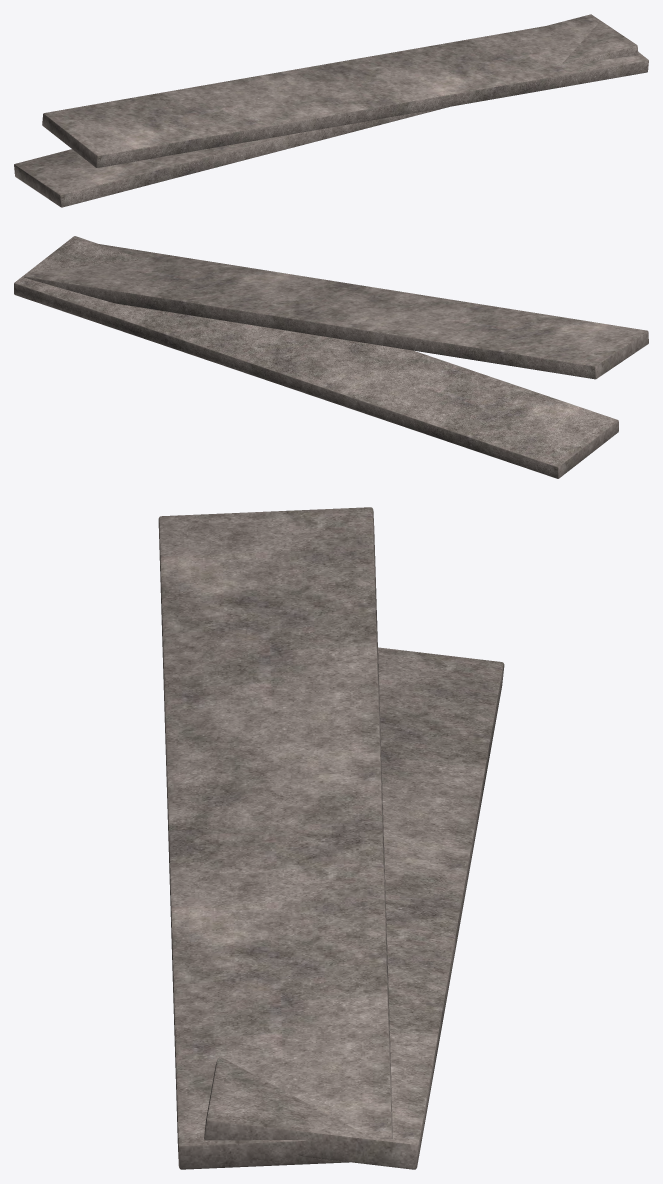
Rendered from ESQ-PCH-002_anim.glb.
3 views of the same model, one above another, from view 1: azimuth 30°, elevation 25°; view 2: azimuth 150°, elevation 25°; view 3: azimuth 270°, elevation 25° (orthographic). The views are drawn at different scales.
Visible parts, largest first — view 1: ESQ-PCH-002_anim1, ESQ-PCH-002_anim0; view 2: ESQ-PCH-002_anim0, ESQ-PCH-002_anim1; view 3: ESQ-PCH-002_anim1, ESQ-PCH-002_anim0.
Boxes of the visible parts, x1,y1,x2,y2 form: ESQ-PCH-002_anim1: (42, 17, 648, 167); ESQ-PCH-002_anim0: (14, 14, 638, 207); ESQ-PCH-002_anim0: (14, 236, 618, 478); ESQ-PCH-002_anim1: (24, 244, 648, 379); ESQ-PCH-002_anim1: (158, 507, 392, 1169); ESQ-PCH-002_anim0: (204, 647, 504, 1169).
Size of the model in its own units: 0.9079 by 0.1363 by 0.2413.
Materials: 1 (1 with a texture image).
